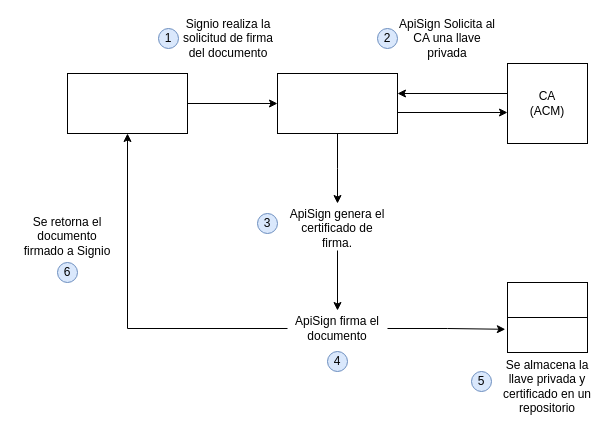
This 614x433 diagram has some shape labels left out. The box of each missing label's shape, as (x1, y1, x2, y2) in pixels:
ApiSign: (276, 72, 398, 134)
CA: (506, 282, 588, 318)
S3: (506, 316, 588, 352)
Signio: (66, 72, 188, 134)
